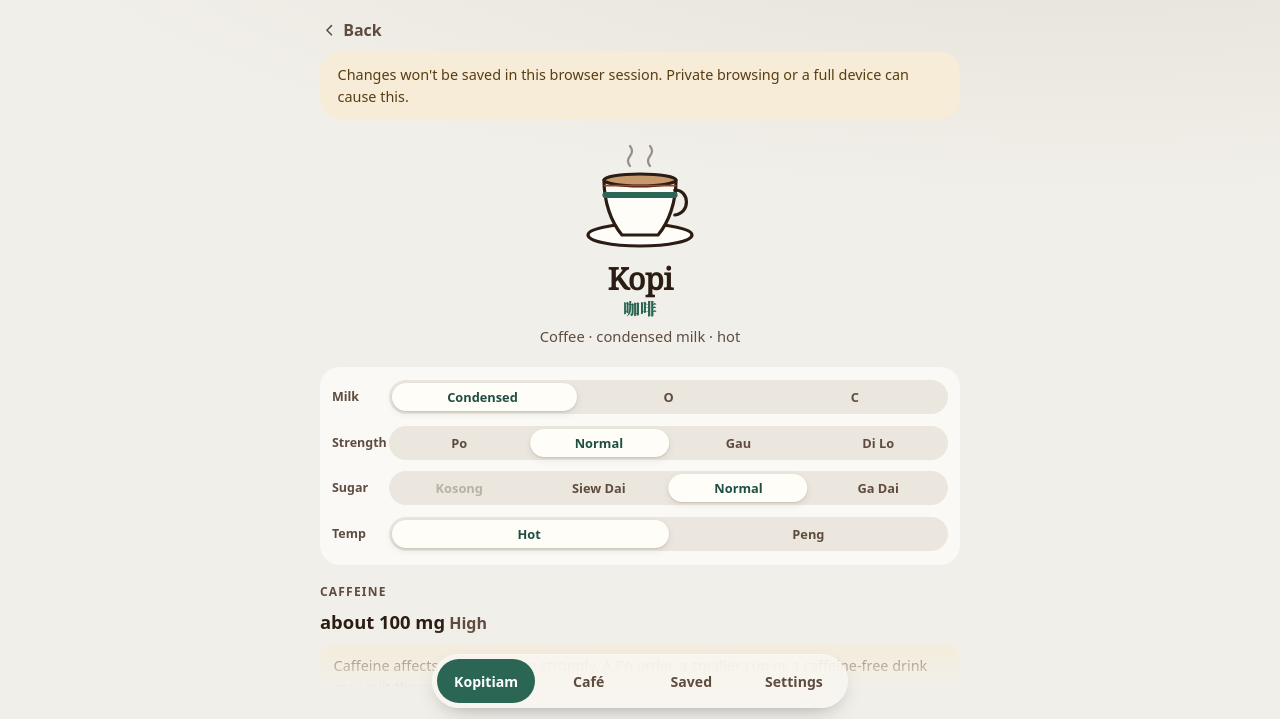
choices rename the order, change the recipe and update the address
This screenshot has width=1280, height=719.
Expected: the heading "Kopi" is shown, x1=607 y1=262 x2=672 y2=295
Click the radio button labelled "C": (855, 397) x1=851 y1=388 x2=859 y2=406
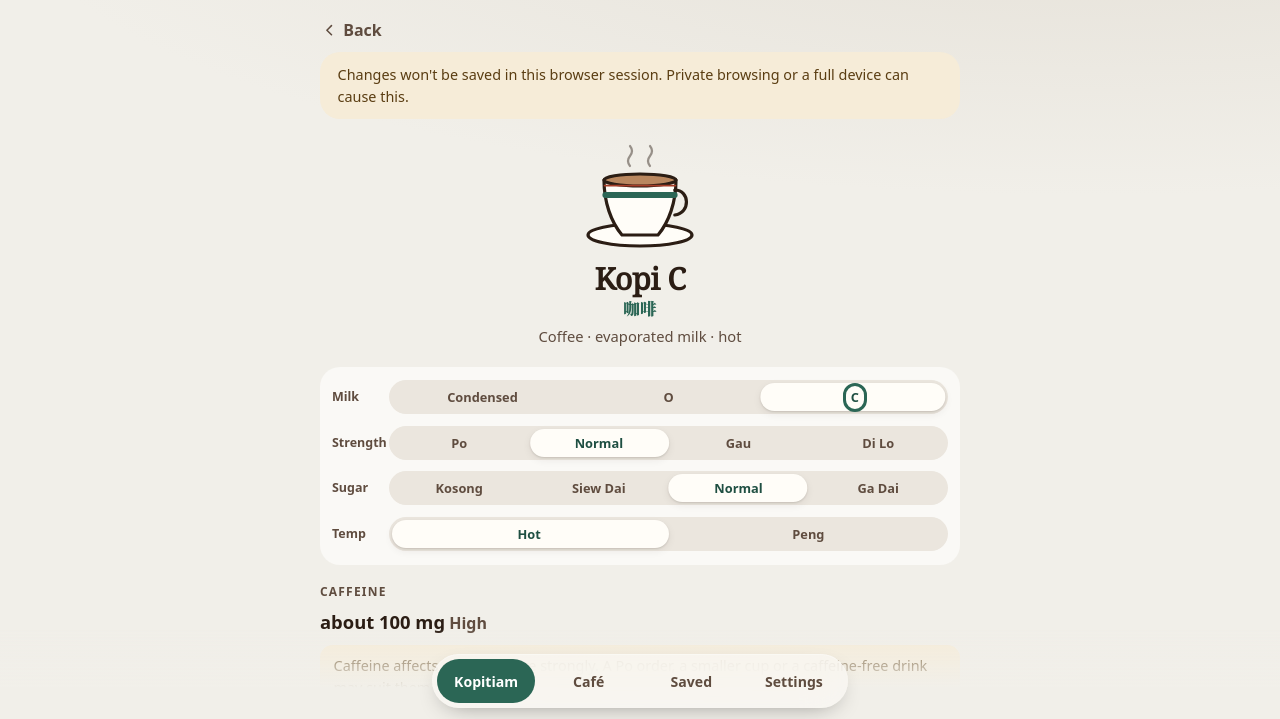
Click the radio button labelled "Gau": (738, 443) x1=726 y1=434 x2=751 y2=452
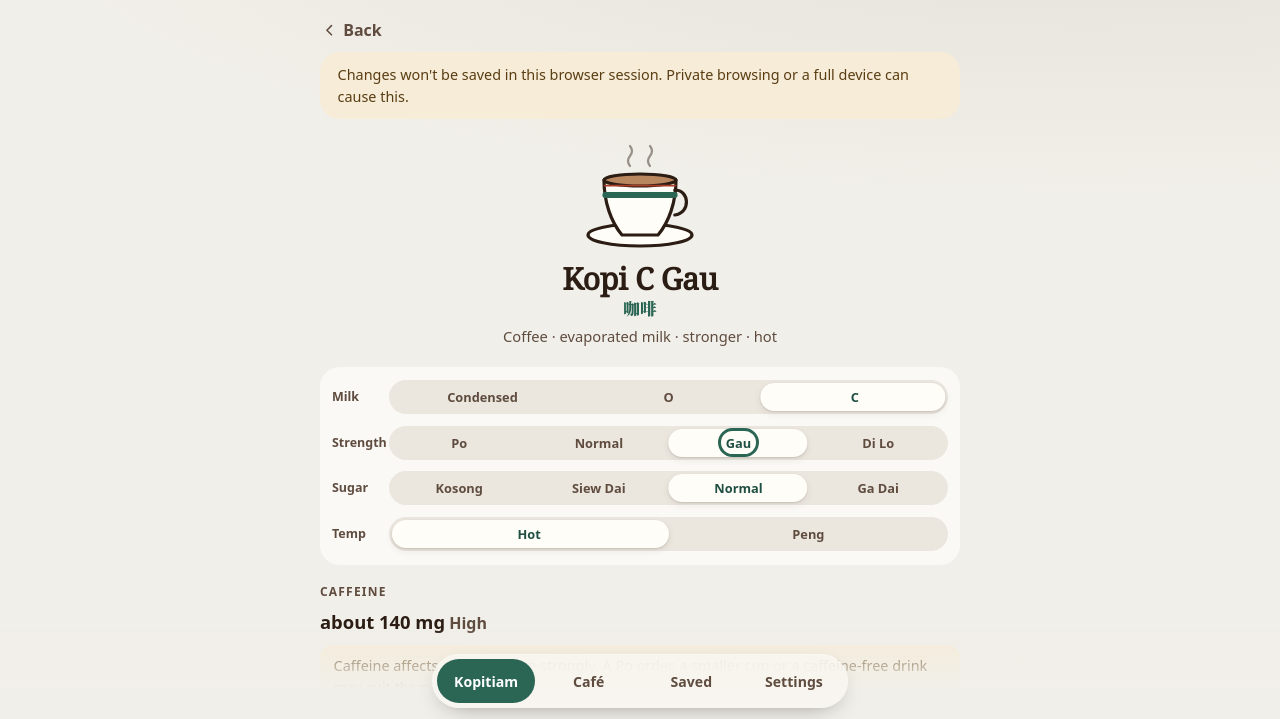
Click the radio button labelled "Siew Dai": (599, 488) x1=572 y1=479 x2=626 y2=497
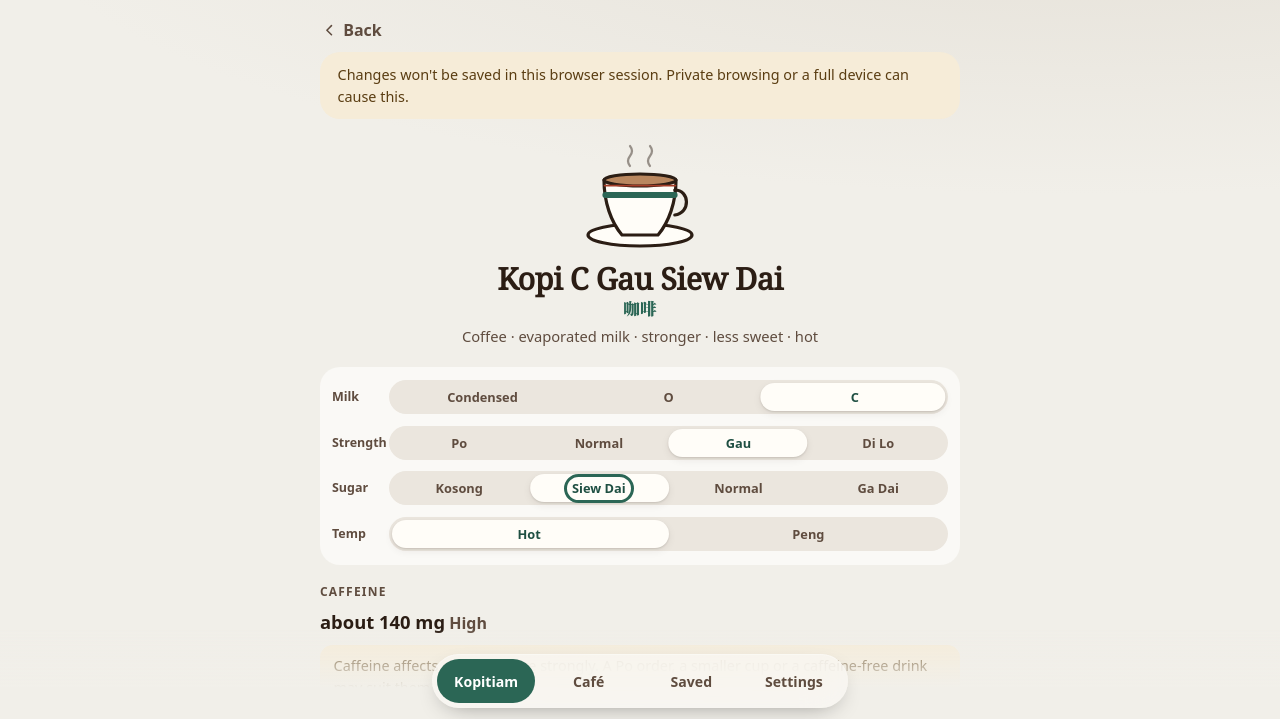
Click the radio button labelled "Peng": (808, 534) x1=792 y1=525 x2=824 y2=543
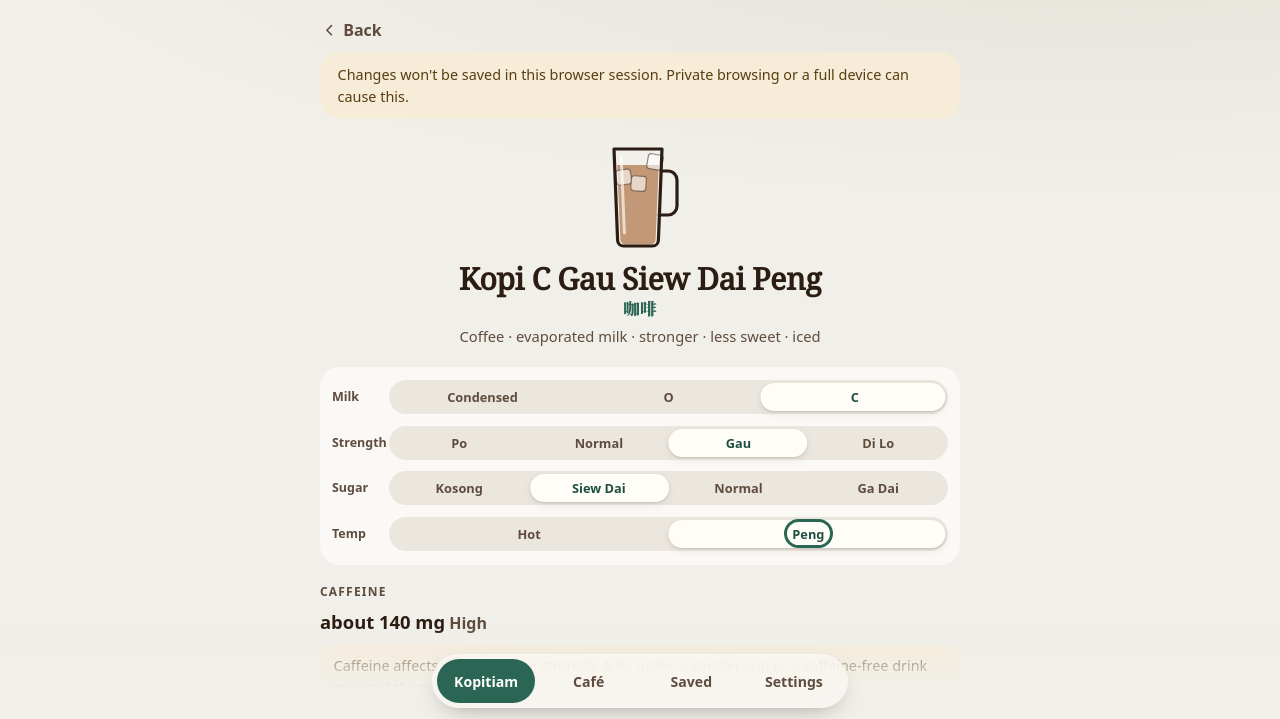
Now the text "about 140 mg" is shown, box x1=320 y1=609 x2=445 y2=634
Now the heading "Kopi C Gau Siew Dai Peng" is shown, box x1=459 y1=262 x2=821 y2=295
